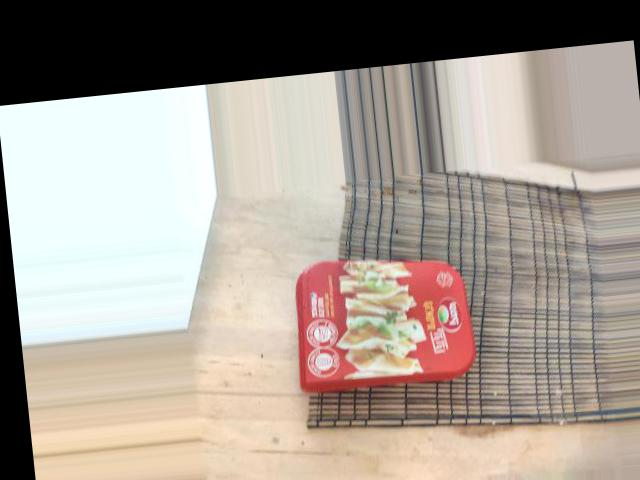cheese: (376, 154, 518, 357)
